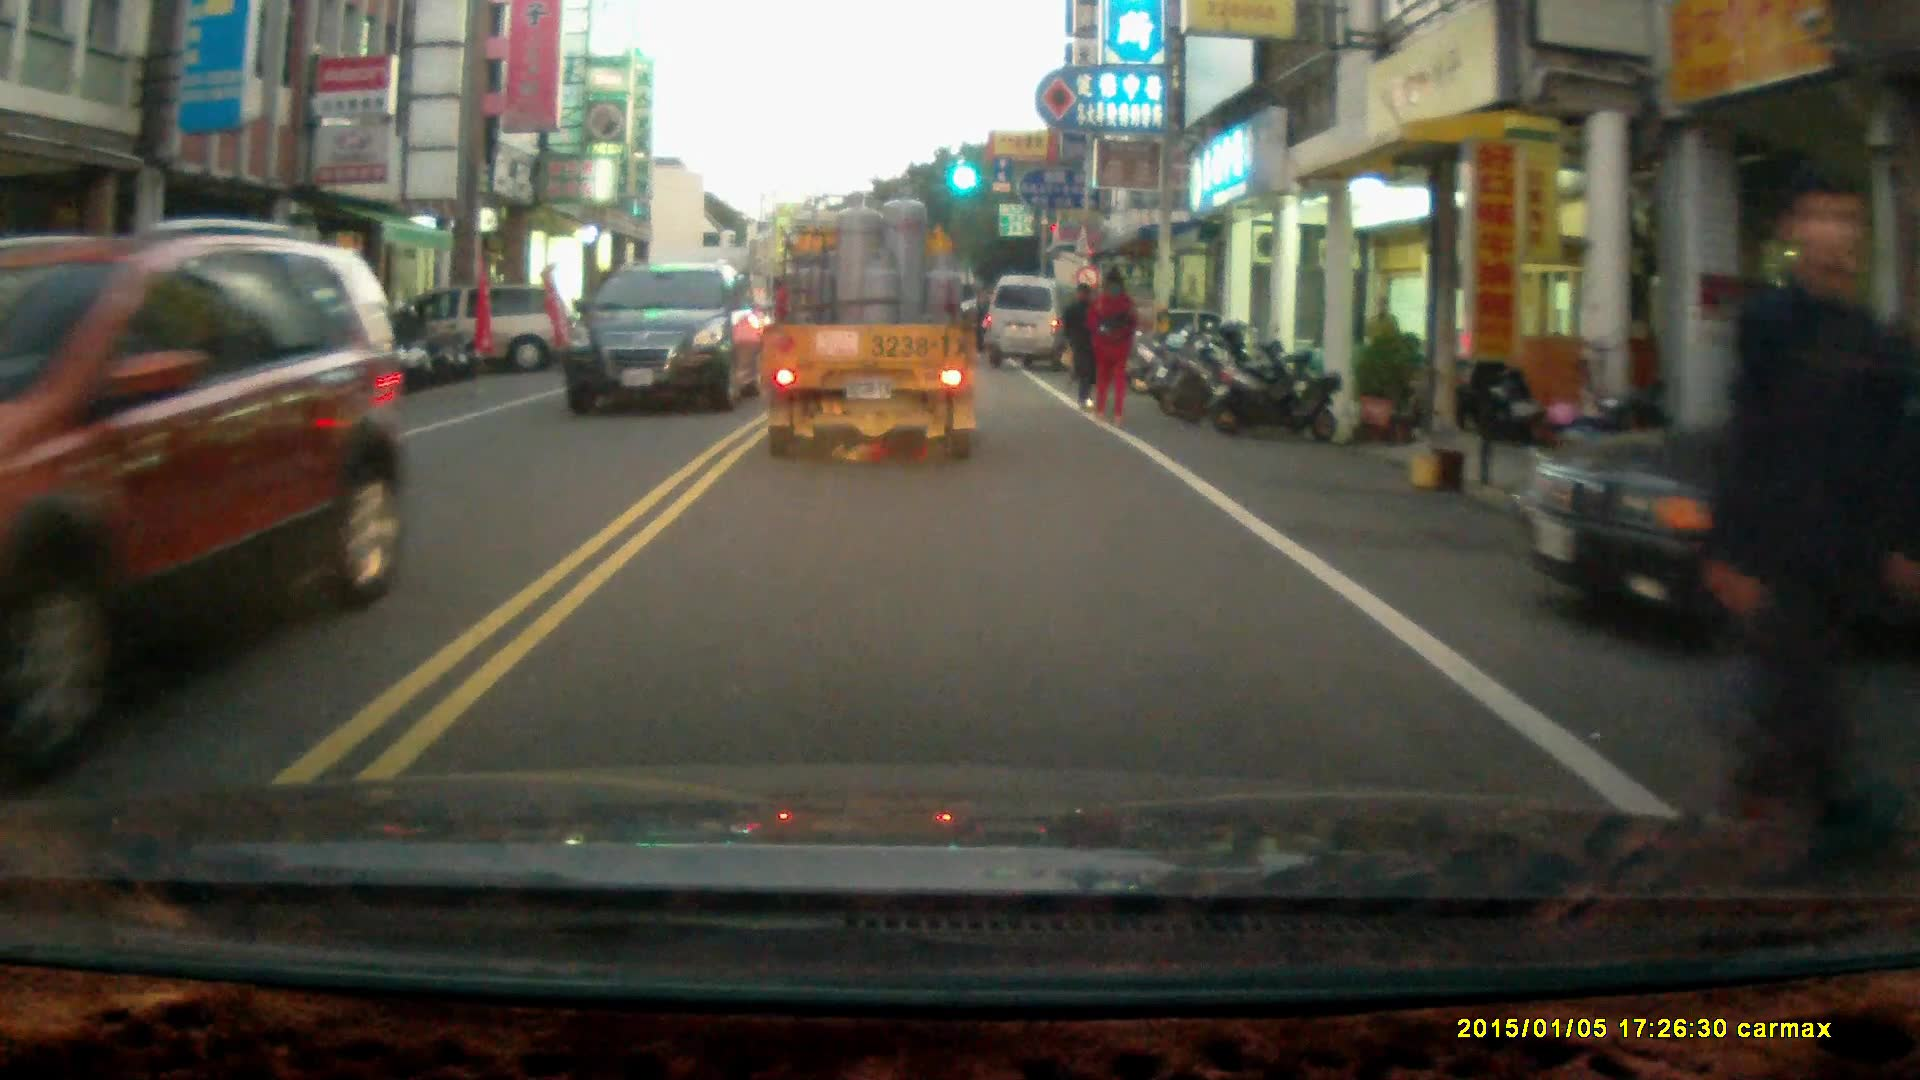pedestrian: (1703, 160, 1920, 868), (1087, 265, 1136, 423), (1061, 274, 1104, 408), (1362, 290, 1400, 390)
vehicle: (1, 221, 438, 714), (1505, 362, 1920, 649), (757, 180, 987, 468), (114, 258, 393, 465), (565, 260, 766, 417), (357, 276, 592, 374), (986, 271, 1083, 371)
